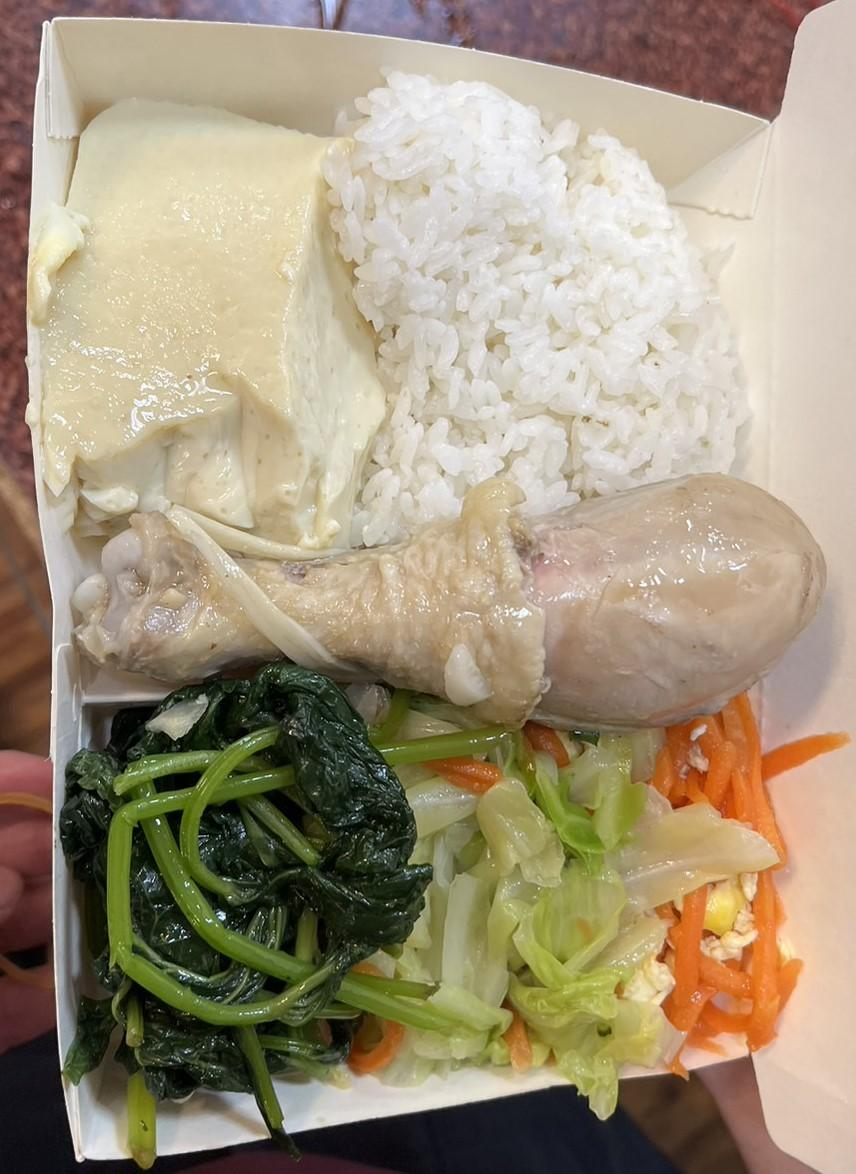big grilled chicken leg: (0, 0, 813, 1174)
big herbal chicken leg: (328, 67, 759, 542)
braised fish fillet: (59, 658, 426, 1112), (361, 691, 763, 1086), (37, 101, 386, 538), (648, 707, 825, 1038)
braised pork: (55, 471, 816, 726)
